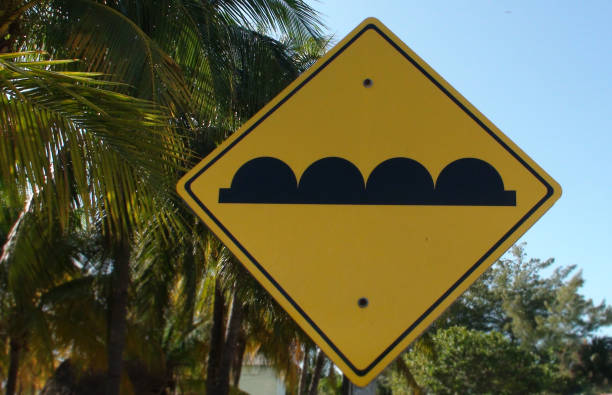speed-breaker: (185, 25, 533, 355)
